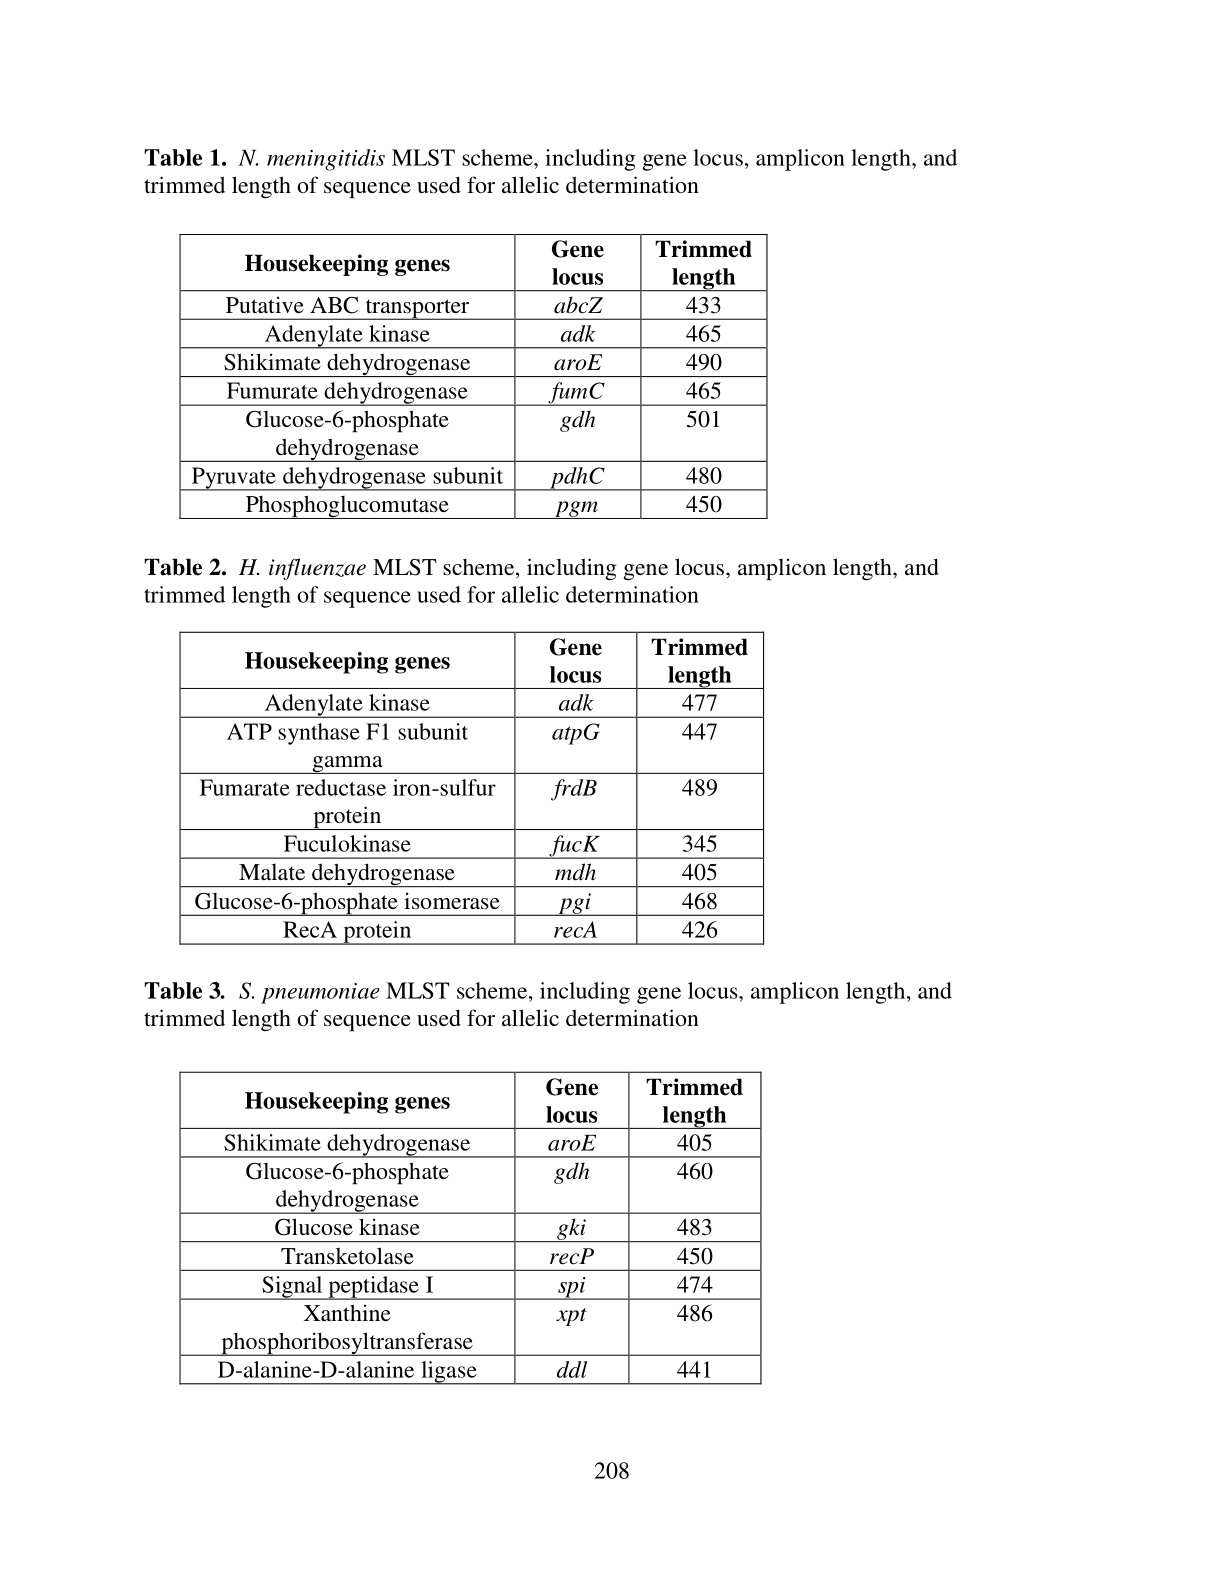full_lined: (177, 630, 765, 946), (179, 1070, 762, 1386), (177, 233, 769, 521)
